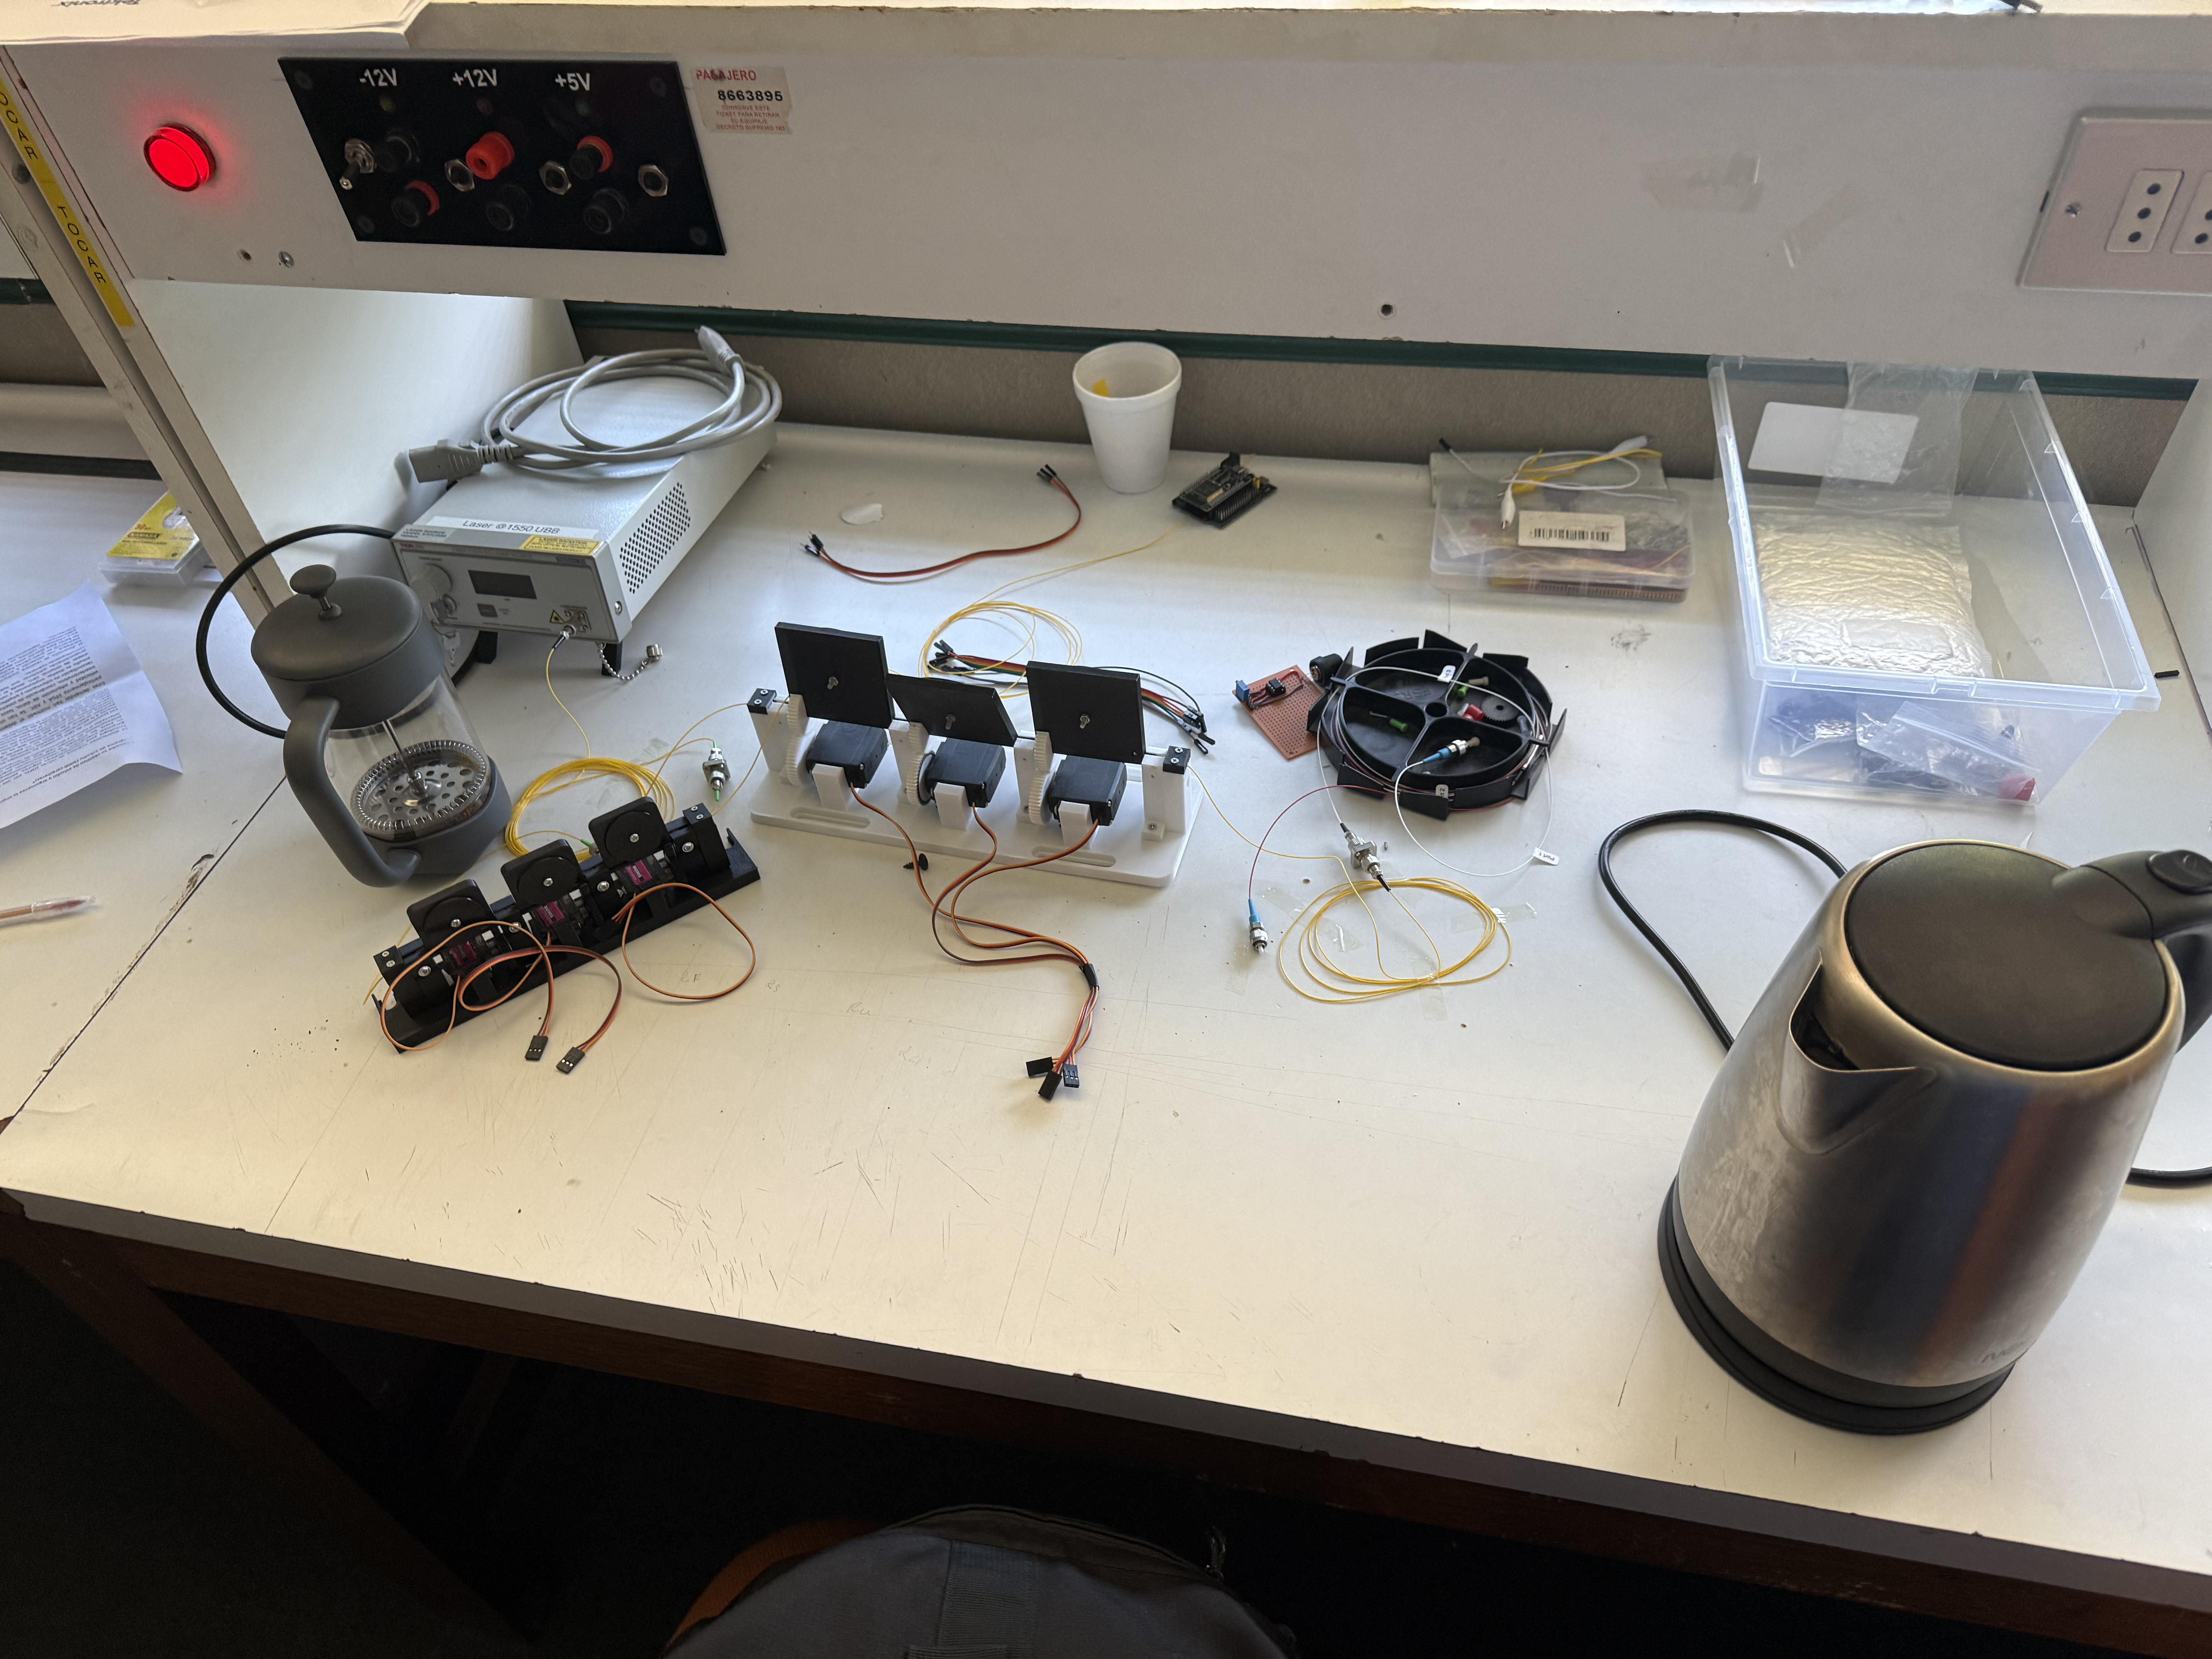laser: (356, 337, 833, 684)
paddle_polarization_controller: (736, 608, 1245, 927), (352, 751, 792, 1090)
